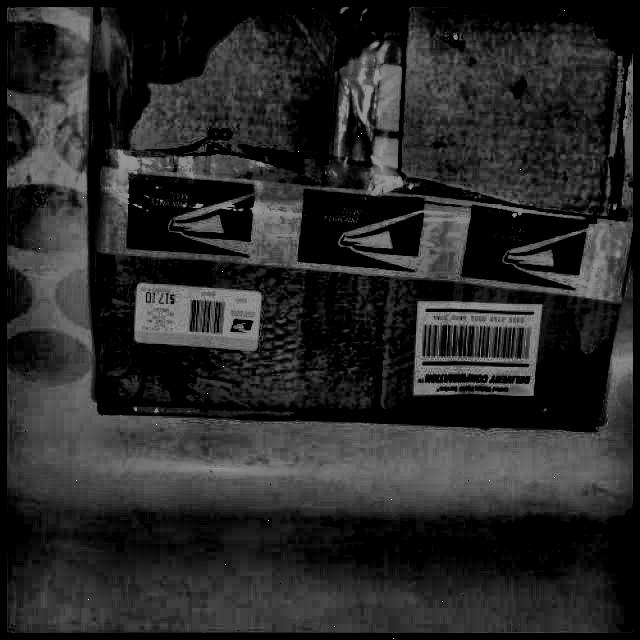box: (68, 1, 640, 455)
wet: (259, 346, 613, 437), (92, 6, 259, 150)
